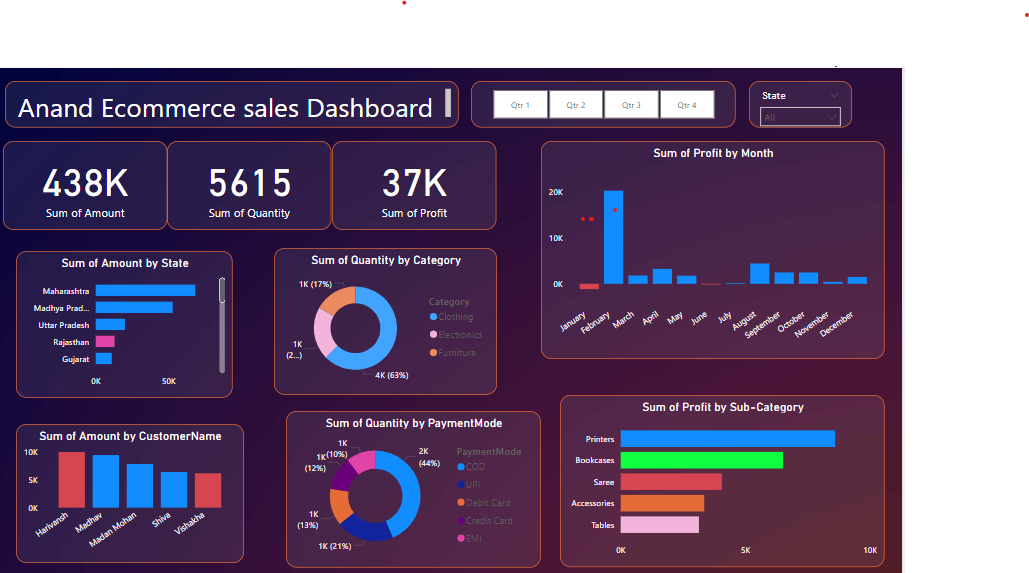

This screenshot's page, from the dashboard's own definition file:
{"tool":"powerbi","page":{"name":"Page 1","canvas":[1280,720],"ordinal":0},"visuals":[{"type":"textbox","box":[10.1,18.5,643.4,65.5],"z":0},{"type":"columnChart","fields":{"Category":["Orders (2).Order Date.Variation.Date Hierarchy.Month"],"Y":["Details.Profit"]},"box":[769.3,104.1,487.1,309.1],"z":1000},{"type":"barChart","fields":{"Category":["Details.Sub-Category"],"Y":["Details.Profit"]},"box":[796.2,463.6,460.3,243.6],"z":2000},{"type":"donutChart","fields":{"Category":["Details.Category"],"Y":["Details.Quantity"]},"box":[391.4,255.3,315.8,208.3],"z":3000},{"type":"donutChart","fields":{"Category":["Details.PaymentMode"],"Y":["Details.Quantity"]},"box":[408.2,485.5,361.2,221.7],"z":4000},{"type":"card","fields":{"Values":["Details.Amount"]},"box":[6.7,104.1,233.5,126],"z":5000},{"type":"card","fields":{"Values":["Details.Quantity"]},"box":[240.2,104.1,233.5,126],"z":6000},{"type":"card","fields":{"Values":["Details.Profit"]},"box":[473.7,104.1,233.5,126],"z":7000},{"type":"barChart","fields":{"Category":["Orders (2).State"],"Y":["Details.Amount"]},"box":[25.2,258.7,307.4,208.3],"z":8000},{"type":"columnChart","fields":{"Category":["Orders (2).CustomerName"],"Y":["Details.Amount"]},"box":[25.2,503.9,322.5,196.5],"z":9000},{"type":"slicer","fields":{"Values":["Orders (2).Order Date.Variation.Date Hierarchy.Quarter"]},"box":[670.2,18.5,374.6,65.5],"z":10000},{"type":"slicer","fields":{"Values":["Orders (2).State"]},"box":[1065,18.5,146.1,65.5],"z":10001}]}

Visuals, with their boxes in screenshot pixels (x1, y1, x2, y2), scaled from the page's 1280x720 canvas onto the 1029x573 screenshot:
textbox: x1=8, y1=15, x2=525, y2=67
columnChart - Orders (2).Order Date.Variation.Date Hierarchy.Month x Details.Profit: x1=618, y1=83, x2=1010, y2=329
barChart - Details.Sub-Category x Details.Profit: x1=640, y1=369, x2=1010, y2=563
donutChart - Details.Category x Details.Quantity: x1=315, y1=203, x2=569, y2=369
donutChart - Details.PaymentMode x Details.Quantity: x1=328, y1=386, x2=619, y2=563
card - Details.Amount: x1=5, y1=83, x2=193, y2=183
card - Details.Quantity: x1=193, y1=83, x2=381, y2=183
card - Details.Profit: x1=381, y1=83, x2=569, y2=183
barChart - Orders (2).State x Details.Amount: x1=20, y1=206, x2=267, y2=372
columnChart - Orders (2).CustomerName x Details.Amount: x1=20, y1=401, x2=280, y2=557
slicer - Orders (2).Order Date.Variation.Date Hierarchy.Quarter: x1=539, y1=15, x2=840, y2=67
slicer - Orders (2).State: x1=856, y1=15, x2=974, y2=67
